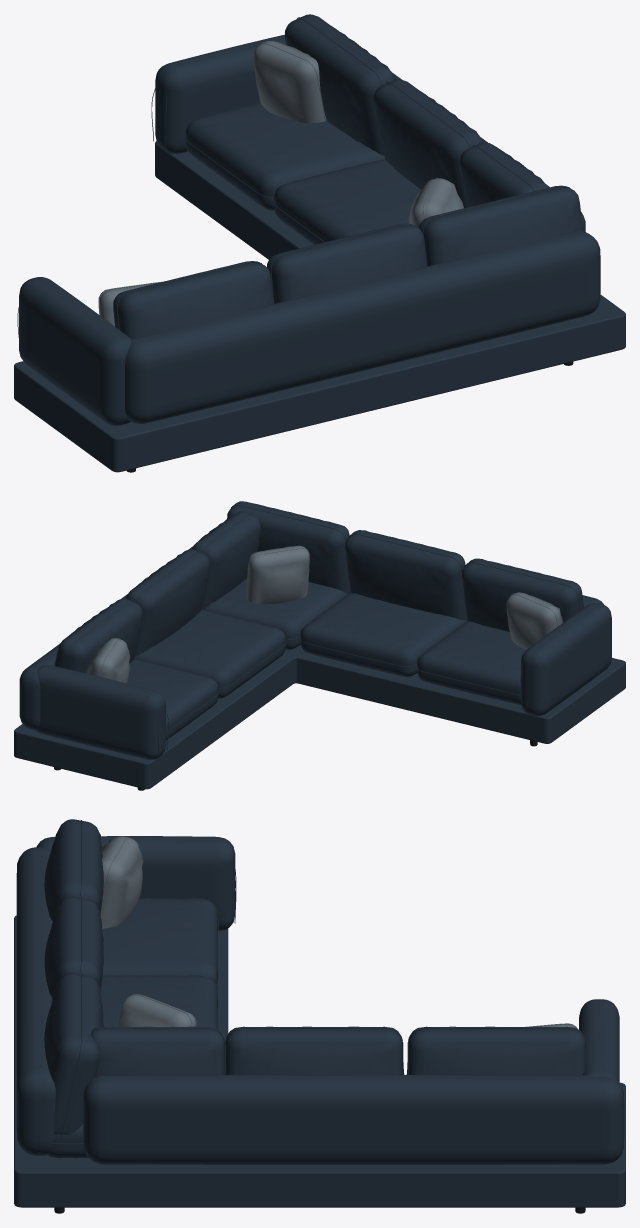
The model's file is atelier-navy-corner.glb.
The picture shows the model from 3 angles, top to bottom: view 1: azimuth 30°, elevation 25°; view 2: azimuth 150°, elevation 25°; view 3: azimuth 270°, elevation 25°; orthographic projection. The views are drawn at different scales.
Parts seen in each view (by area): view 1: continuous_L_upholstered_frame, left_scatter_pillow_cloth; view 2: continuous_L_upholstered_frame, left_scatter_pillow_cloth; view 3: continuous_L_upholstered_frame, left_scatter_pillow_cloth.
Part boxes in pixels (<box>): continuous_L_upholstered_frame: <box>14,14,625,472</box>; left_scatter_pillow_cloth: <box>98,41,463,326</box>; continuous_L_upholstered_frame: <box>14,501,625,789</box>; left_scatter_pillow_cloth: <box>86,545,563,683</box>; continuous_L_upholstered_frame: <box>14,819,625,1207</box>; left_scatter_pillow_cloth: <box>100,836,577,1028</box>.
Size of the model in its own units: 3.08 by 0.9712 by 3.08.
